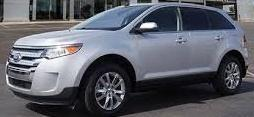SUV: (7, 5, 249, 114)
